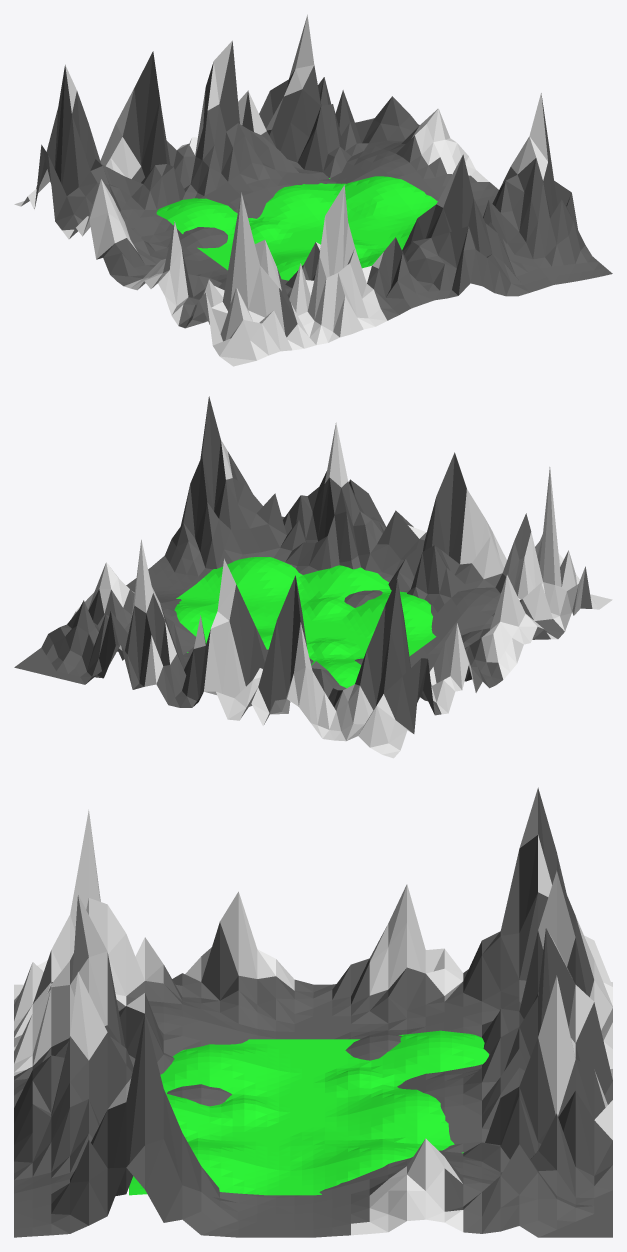
Rendered from TrueField.fbx.
3 views of the same model, one above another, from view 1: azimuth 30°, elevation 25°; view 2: azimuth 150°, elevation 25°; view 3: azimuth 270°, elevation 25° (orthographic). The views are drawn at different scales.
Parts seen in each view (by area): view 1: Mountain, Plane; view 2: Mountain, Plane; view 3: Mountain, Plane.
Boxes of the visible parts, left/top/right/bottom form: Mountain: left=14, top=14, right=612, bottom=366; Plane: left=156, top=176, right=437, bottom=280; Mountain: left=14, top=396, right=612, bottom=758; Plane: left=174, top=557, right=436, bottom=688; Mountain: left=14, top=787, right=612, bottom=1237; Plane: left=129, top=1030, right=488, bottom=1195.
Bounding box in the file's own units: 38570 × 15137 × 38570.
